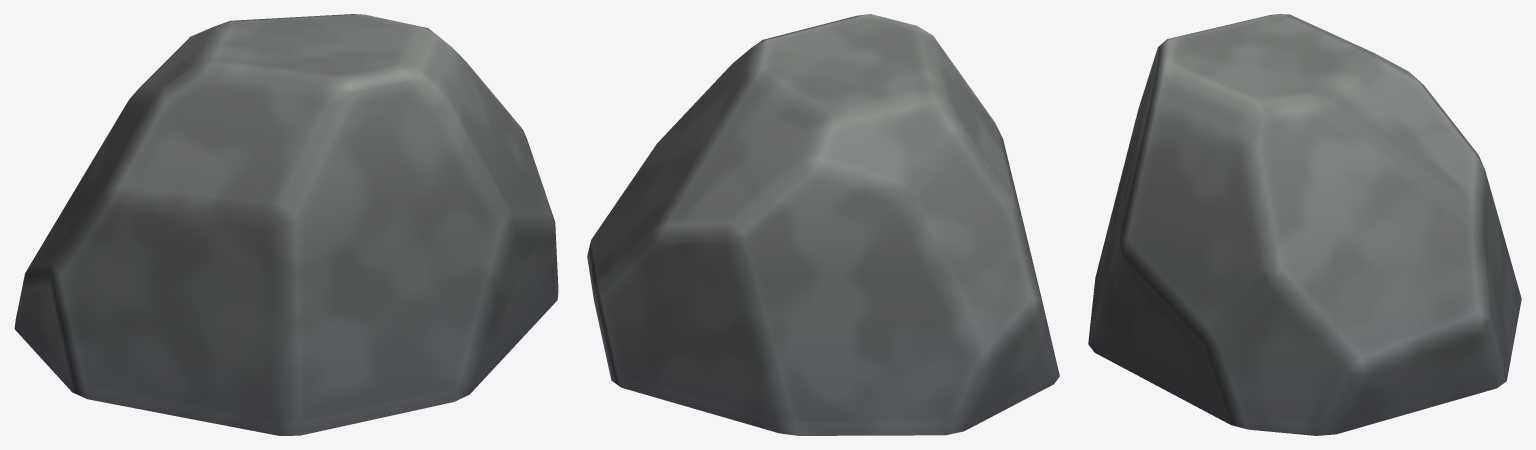
File: boulder_2.glb
3 renders of one model, left to right at view 1: azimuth 30°, elevation 25°; view 2: azimuth 150°, elevation 25°; view 3: azimuth 270°, elevation 25°, orthographic. The views are drawn at different scales.
Visible parts, largest first — view 1: boulder_2; view 2: boulder_2; view 3: boulder_2.
Part boxes in pixels (box(x1,y1,x2,y2)): boulder_2: box(14, 14, 558, 435); boulder_2: box(587, 14, 1059, 435); boulder_2: box(1088, 14, 1521, 435).
Bounding box in the file's own units: 2 × 1.2 × 1.7.
Materials: 1 (1 with a texture image).
